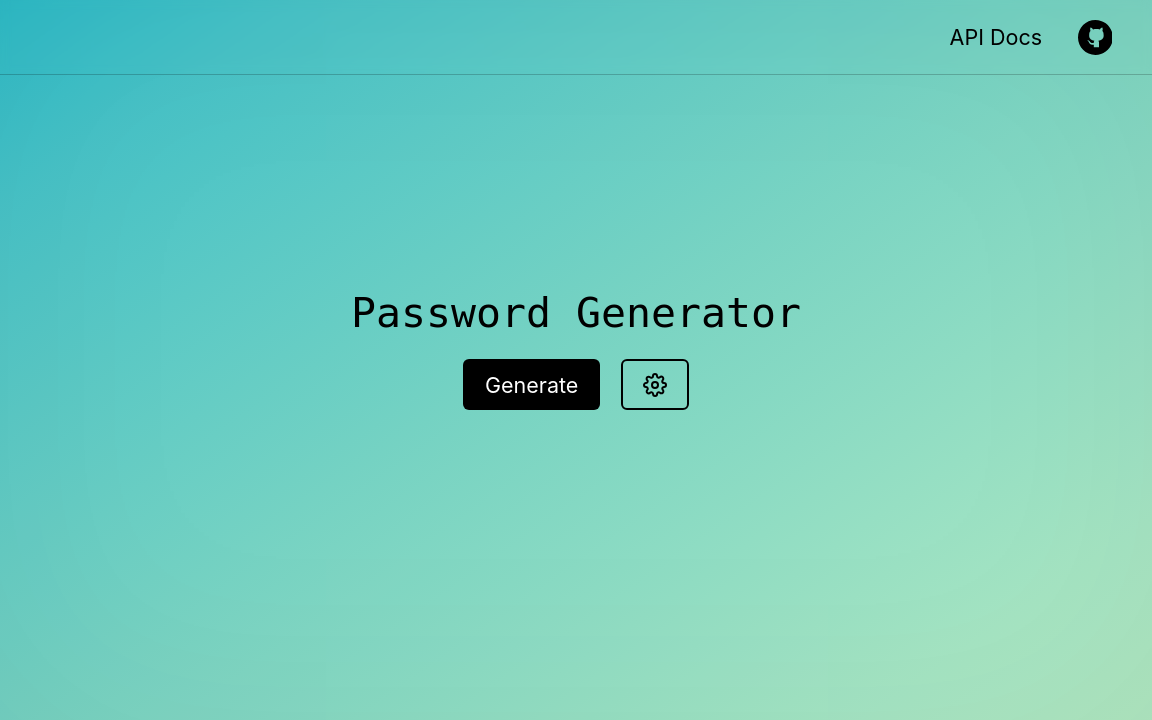
Test: generates-password › has only special characters
The width and height of the screenshot is (1152, 720).
# open options panel
Click the button with id "options": (656, 386) [622,360,689,411]
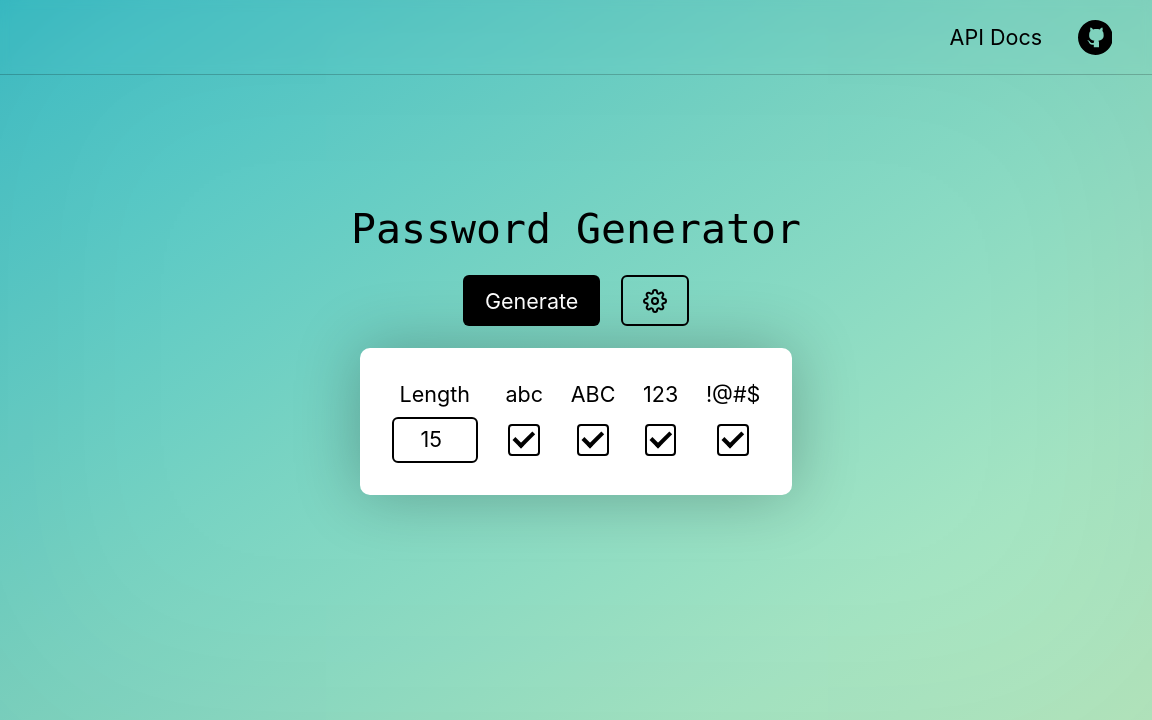
# uncheck all options except lowercase
Click the checkbox with id "lowercase": (524, 440) [508,424,540,456]
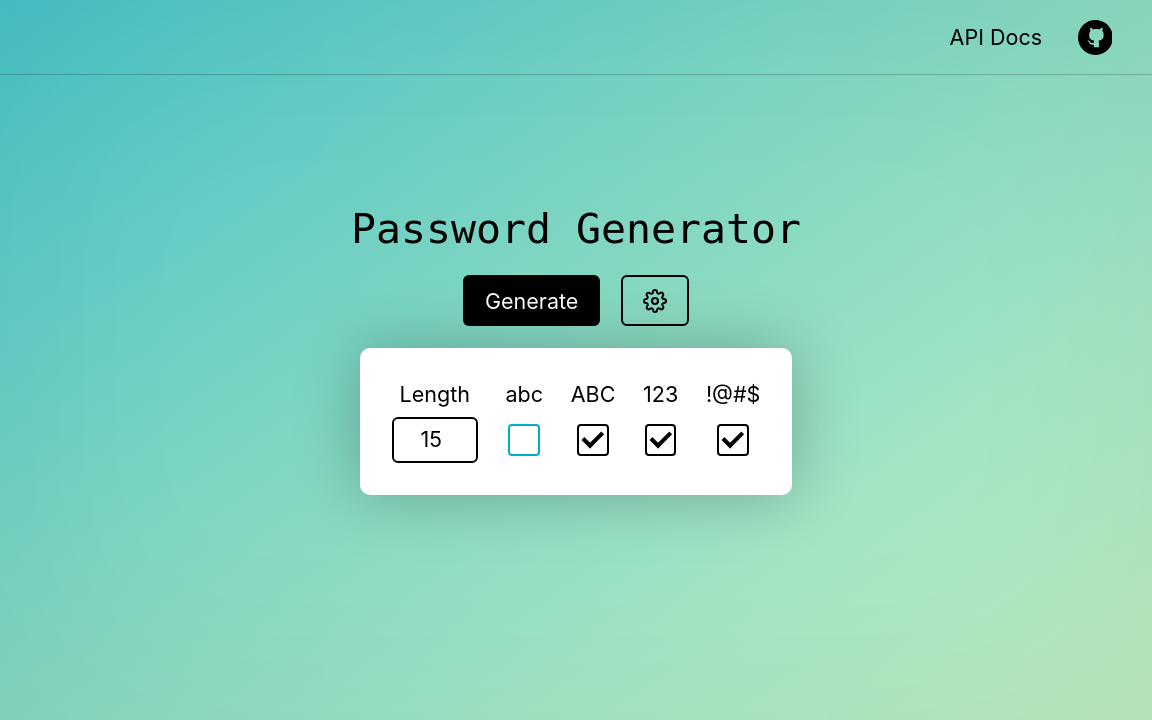
Click the checkbox with id "uppercase": (593, 440) [577,424,609,456]
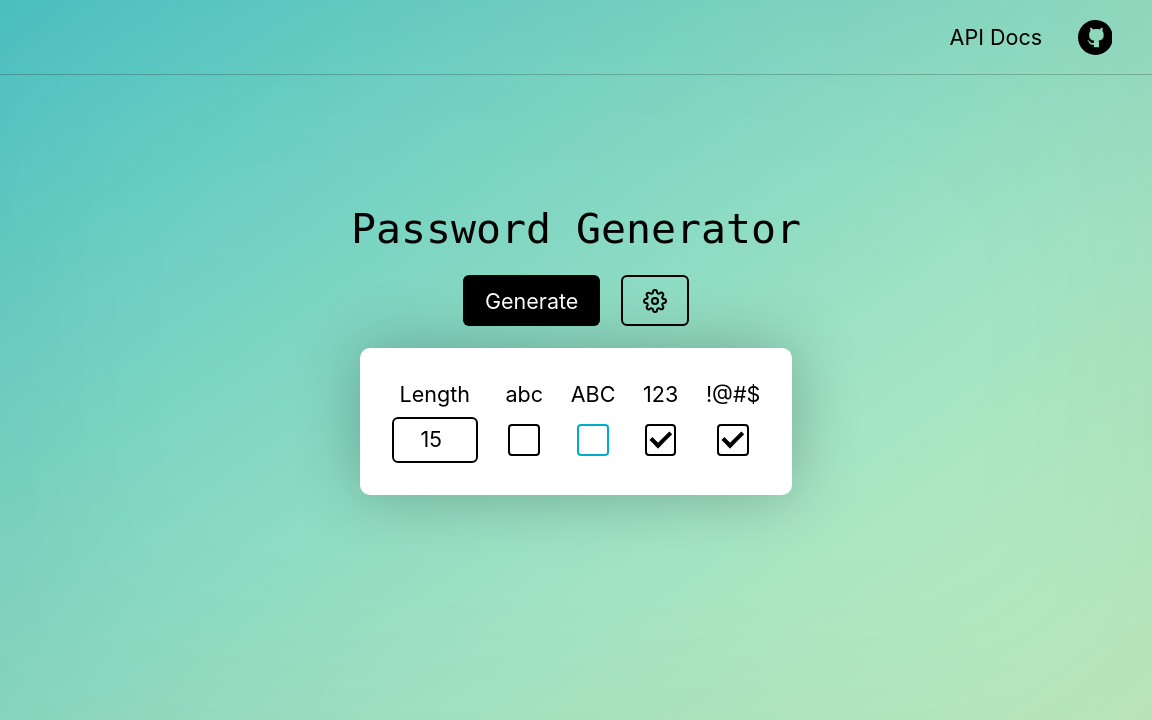
Click the checkbox with id "numbers": (661, 440) [645,424,677,456]
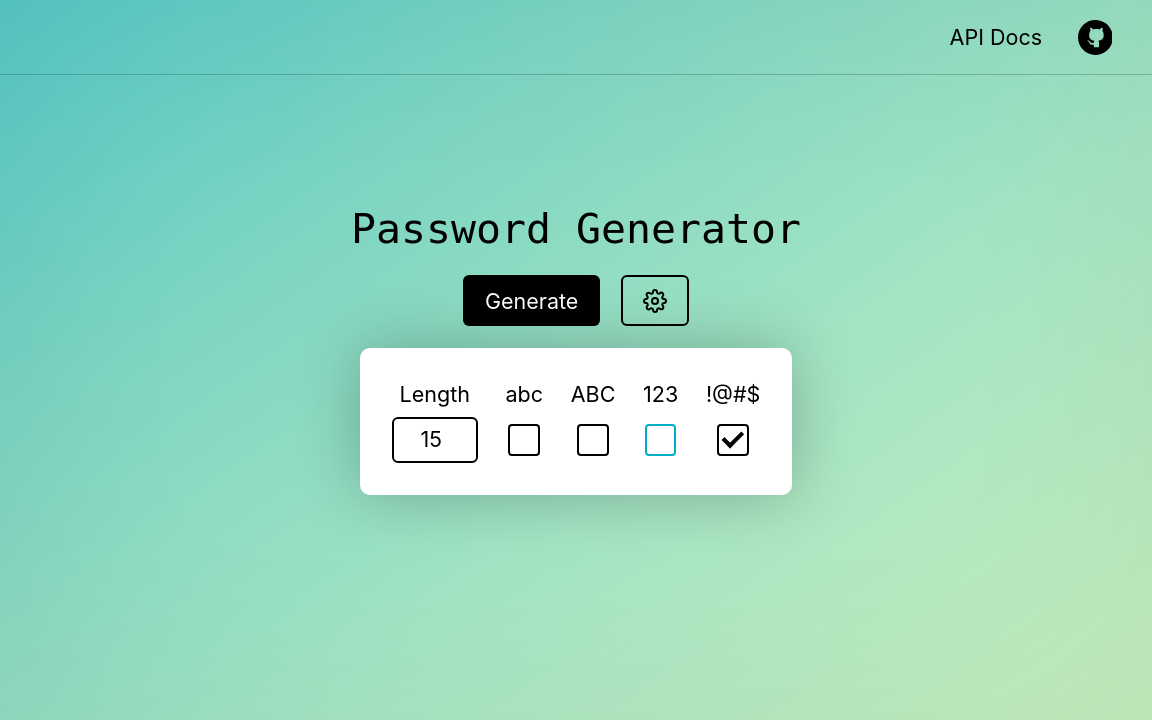
# click generate button
Click the button with id "button-generate": (533, 301) [464,275,601,326]
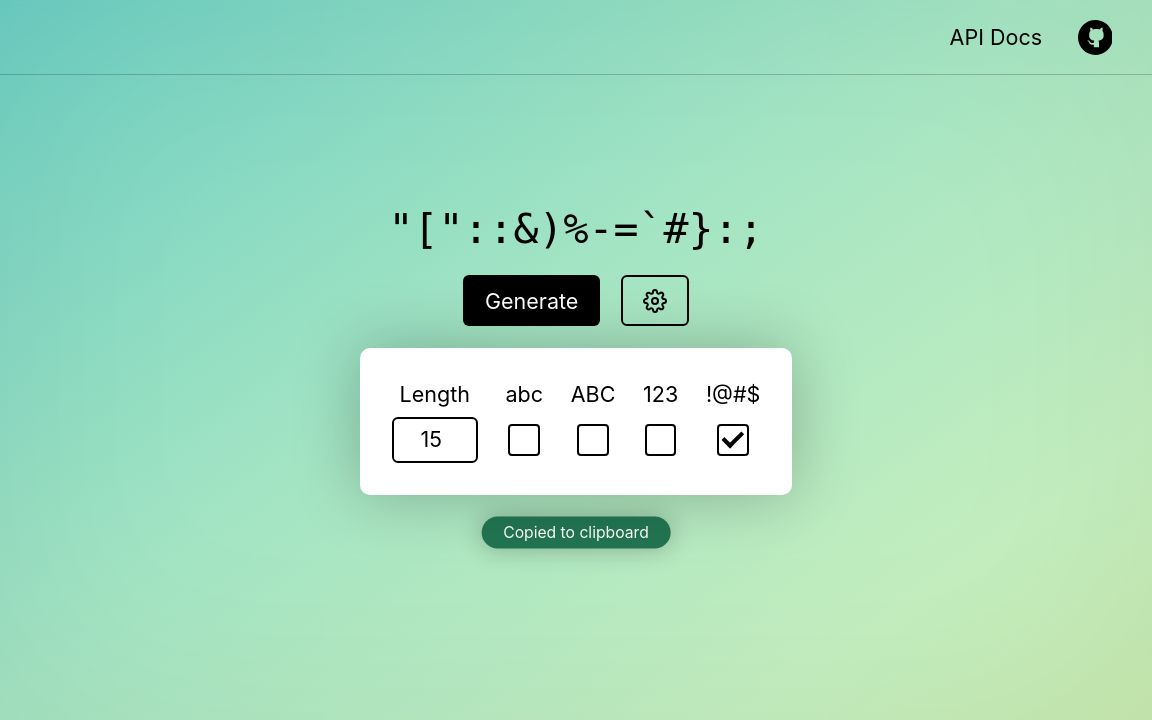
Now the text "\"[\"::&)%-=`#}:;" is shown, box [360,204,792,254]
